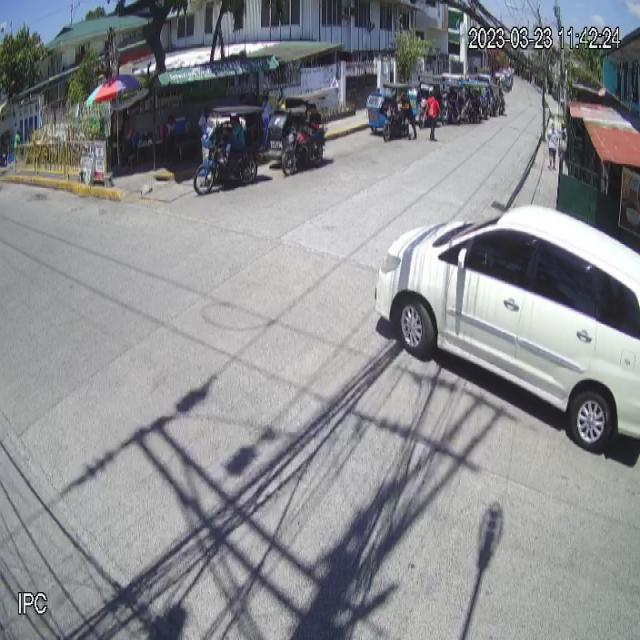Car: (374, 204, 640, 451)
